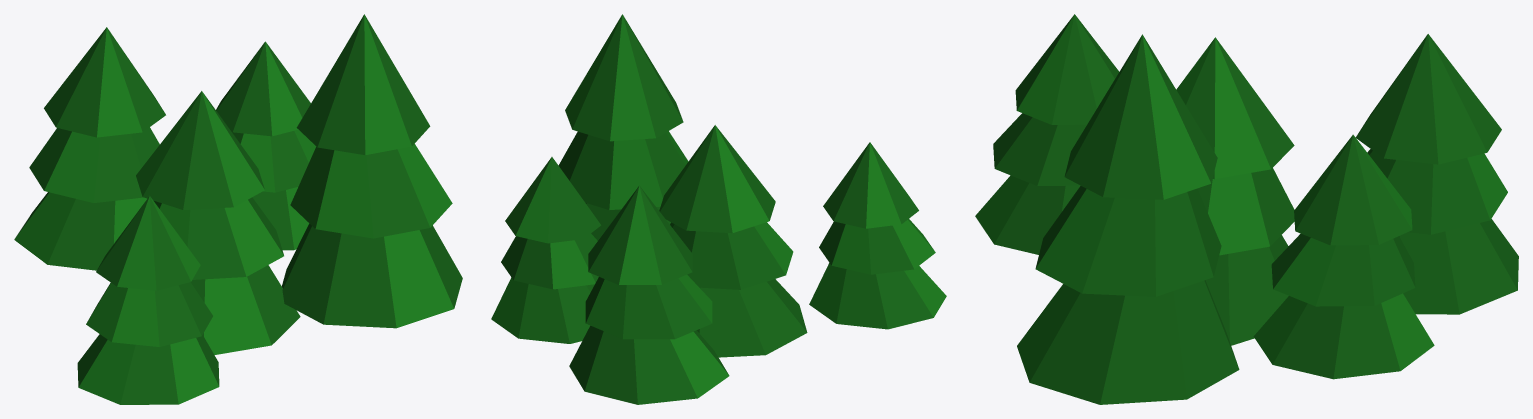
File: copse.glb
3 views of the same model, side by side, from view 1: azimuth 30°, elevation 25°; view 2: azimuth 150°, elevation 25°; view 3: azimuth 270°, elevation 25° (orthographic). The views are drawn at different scales.
Parts seen in each view (by area): view 1: Copse; view 2: Copse; view 3: Copse.
Part boxes in pixels (<box>): Copse: <box>14,14,462,404</box>; Copse: <box>491,14,946,404</box>; Copse: <box>975,14,1518,404</box>.
Size of the model in its own units: 14.05 by 9.79 by 14.04.
